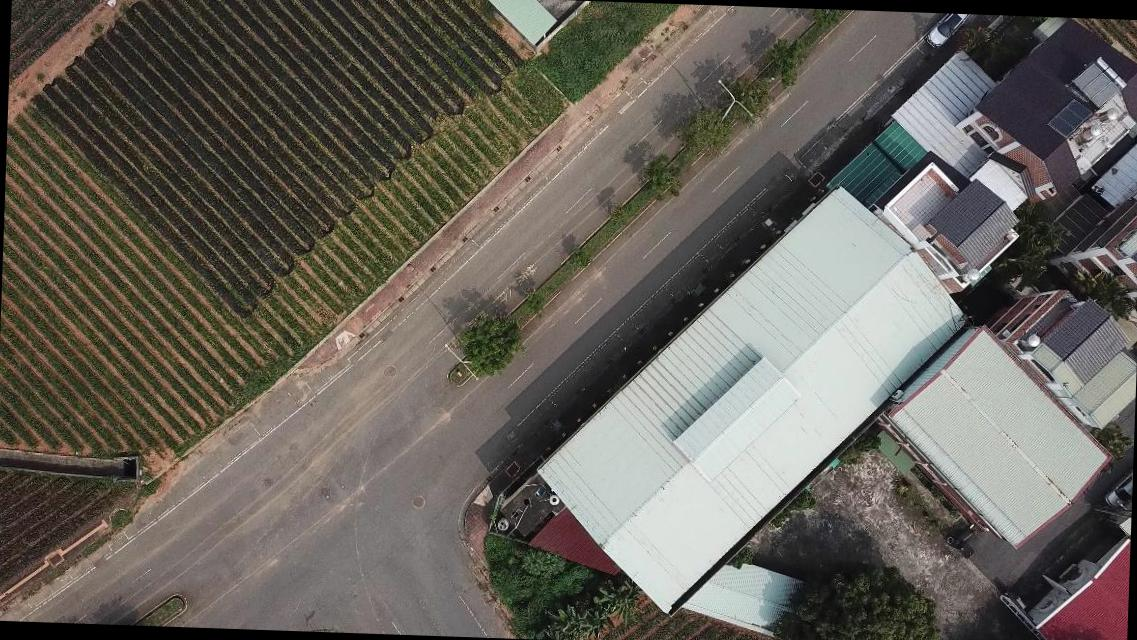vehicle: (920, 13, 966, 52)
